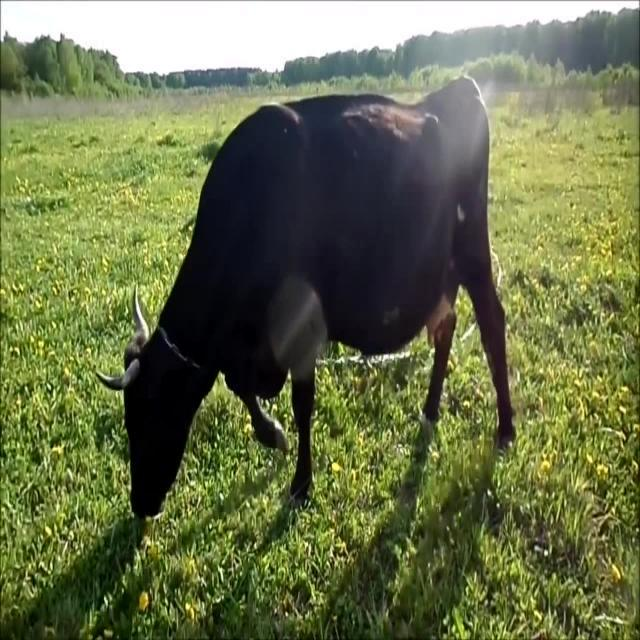COW: (104, 80, 514, 516)
